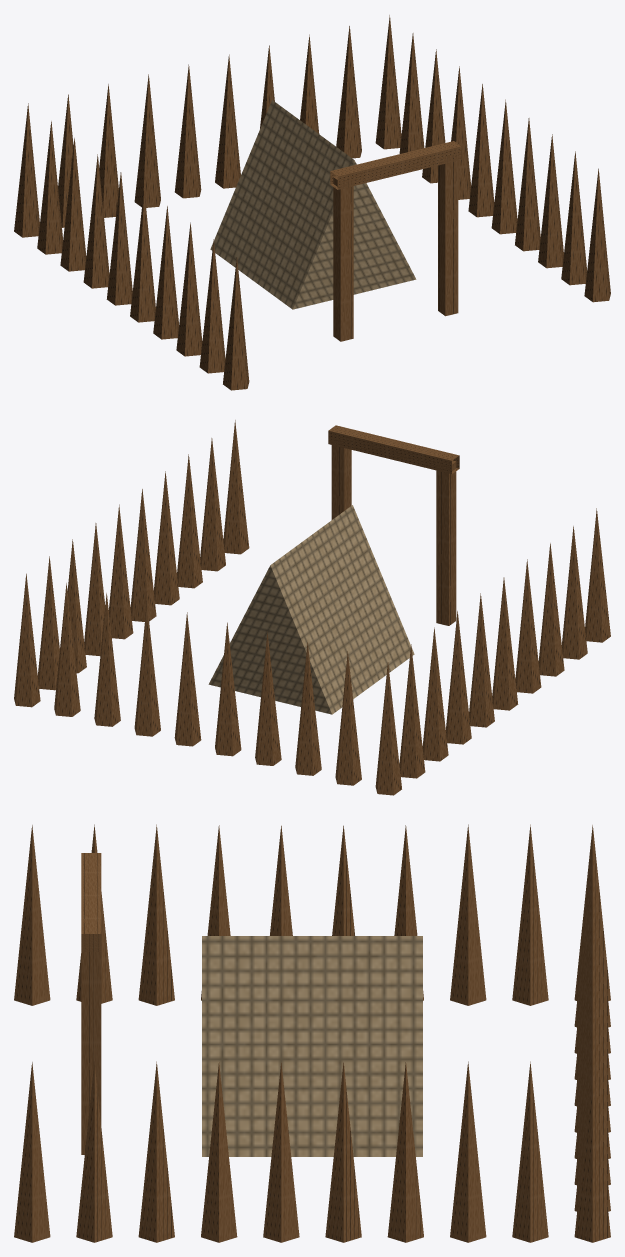
The model's file is military-CAMP-1-lod0.glb.
3 views of the same model, one above another, from view 1: azimuth 30°, elevation 25°; view 2: azimuth 150°, elevation 25°; view 3: azimuth 270°, elevation 25° (orthographic). The views are drawn at different scales.
Bounding box in the file's own units: 0.807 × 0.3335 × 0.8095.
Materials: 1 (1 with a texture image).
